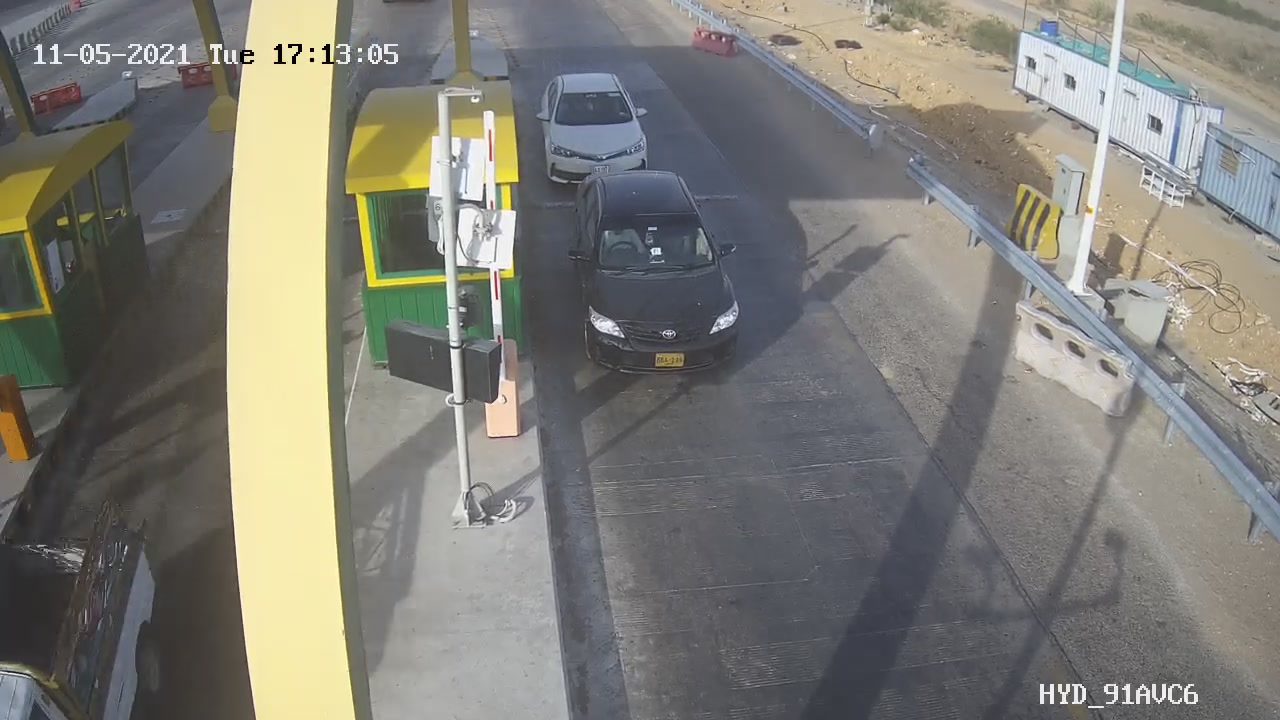F1: (555, 159, 760, 395), (526, 60, 665, 200)
